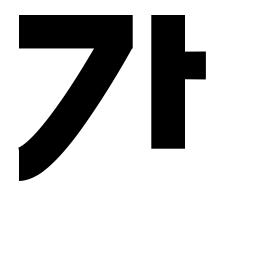Gaji: (141, 44, 200, 93)
